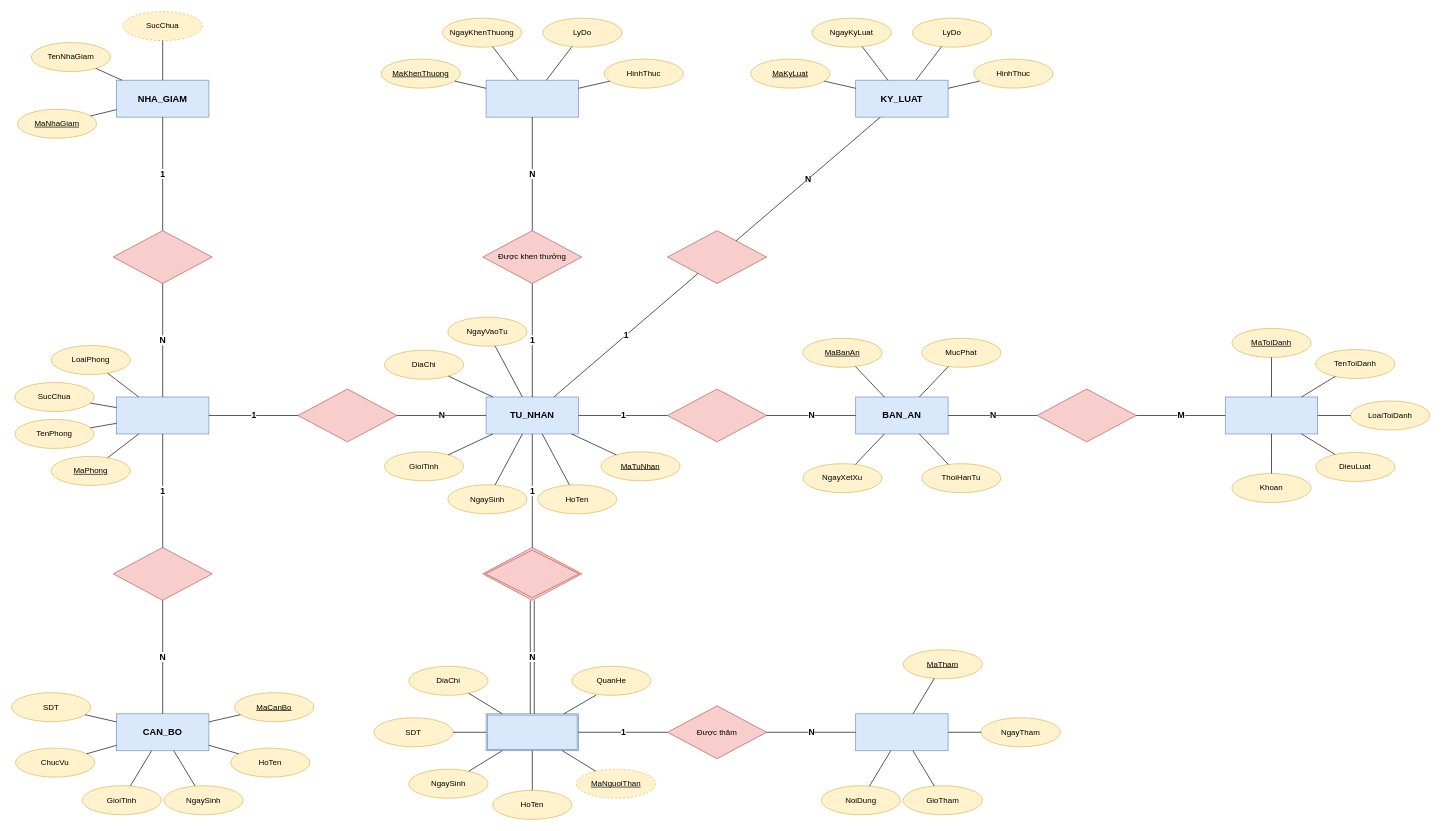
The diagram is 1441 pixels wide and 831 high, and some of its shapes have lost their labels. Each missing label, with the centre of its shape:
Bị kỷ luật: the point at 717,256
Bị xét xử: the point at 717,415
Có: the point at 532,573
Giam giữ: the point at 347,415
Gồm: the point at 162,256
Gồm tội: the point at 1086,415
KHEN_THUONG: the point at 531,98
LUOT_THAM: the point at 901,732
NGUOI_THAN: the point at 531,732
PHONG_GIAM: the point at 162,415
Phụ trách: the point at 162,573
TOI_DANH: the point at 1271,415
